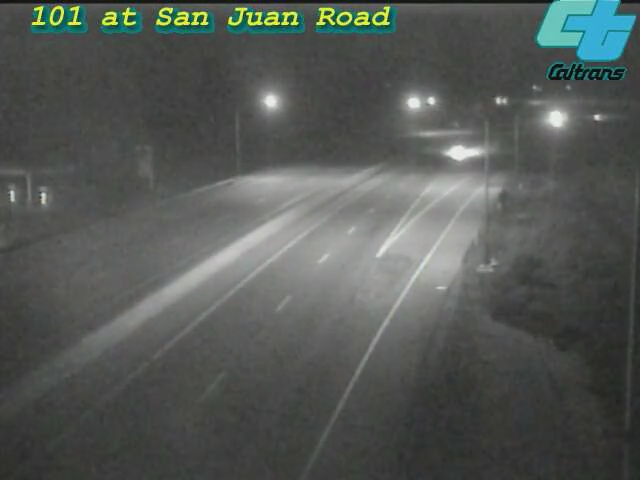vehicle: (572, 92, 622, 142), (529, 93, 579, 143), (436, 128, 486, 178), (477, 76, 527, 126)
